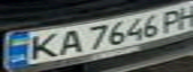4: (124, 15, 148, 43)
6: (139, 11, 166, 38), (106, 18, 130, 47)
7: (81, 21, 109, 52)
A: (54, 27, 87, 56)
H: (172, 2, 193, 30)
K: (18, 30, 63, 62)
P: (157, 7, 190, 34)
